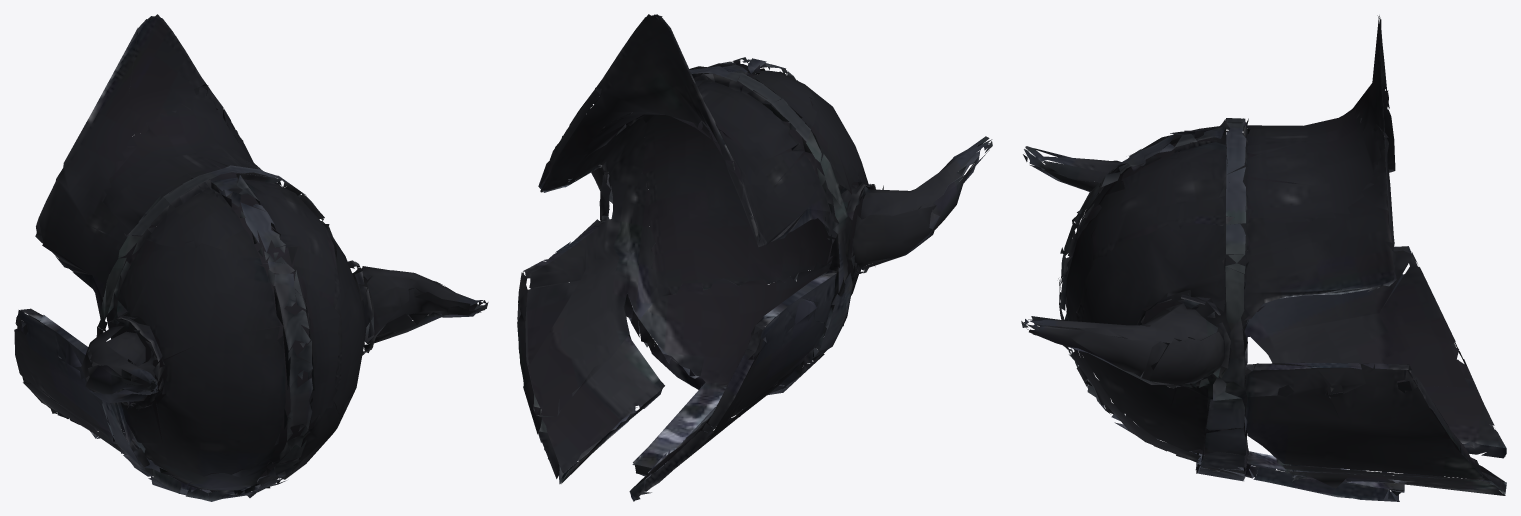
The model's file is greathelm.glb.
The picture shows the model from 3 angles, left to right: view 1: azimuth 30°, elevation 25°; view 2: azimuth 150°, elevation 25°; view 3: azimuth 270°, elevation 25°; orthographic projection. The views are drawn at different scales.
Parts seen in each view (by area): view 1: Greathelm; view 2: Greathelm; view 3: Greathelm.
Boxes of the visible parts, <box> form: Greathelm: <box>14,14,488,501</box>; Greathelm: <box>517,14,992,501</box>; Greathelm: <box>1021,15,1506,501</box>.
Size of the model in its own units: 0.2322 by 0.2914 by 0.2654.
Materials: 1 (1 with a texture image).
